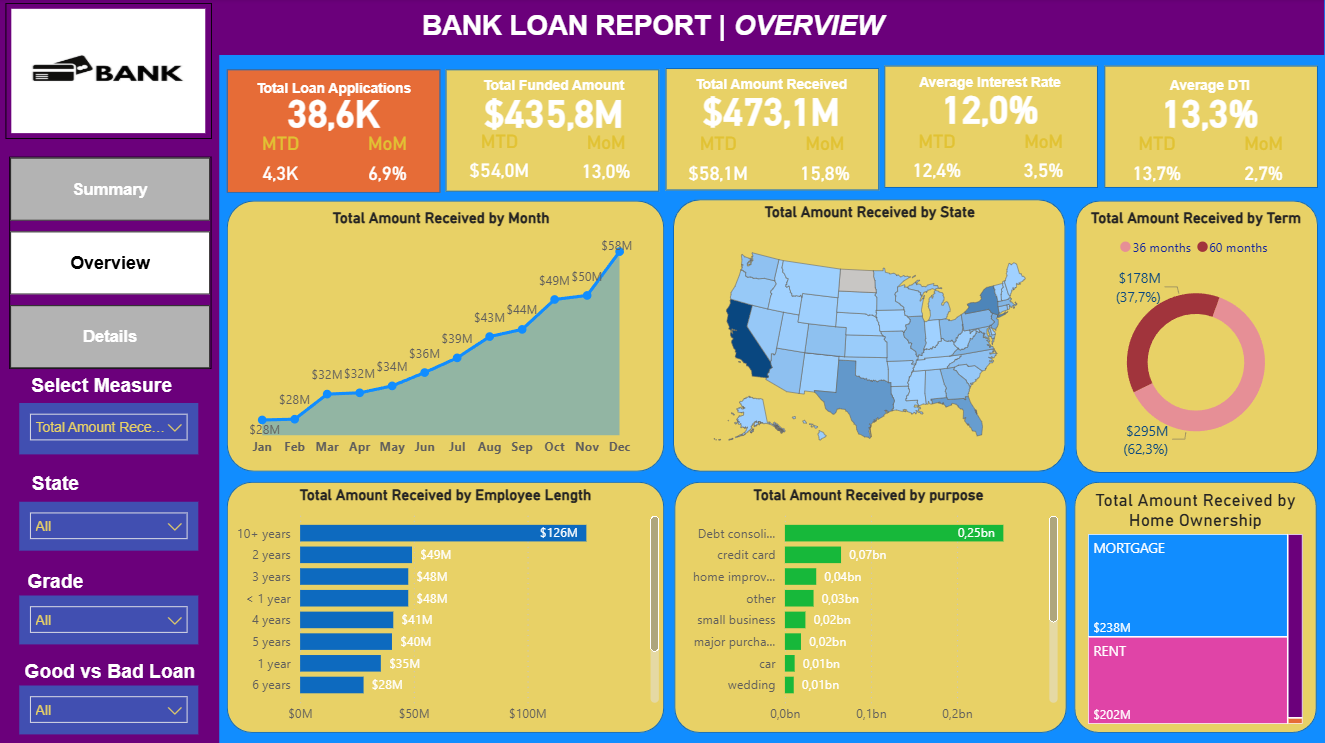

What the dashboard file says about the page in this screenshot:
{"tool":"powerbi","page":{"name":"Overview","canvas":[1280,720],"ordinal":1},"visuals":[{"type":"shape","box":[0,27.7,213.5,692.5],"z":0},{"type":"shape","box":[220.7,68.6,206.3,119.4],"z":0,"group":"g2"},{"type":"group","id":"g1","title":"Group 2","box":[431.7,69.3,206.3,118.3],"z":0,"group":"g6"},{"type":"shape","box":[1040,195.4,234,263],"z":1000},{"type":"shape","box":[220.8,195.4,422.3,261.8],"z":2000},{"type":"shape","box":[0,0,1280,55],"z":3000},{"type":"textbox","box":[404.2,7.2,470.5,48.3],"z":4000},{"type":"card","fields":{"Values":["bank_loan_data.Total Loan Applications"]},"box":[220.7,77.3,206.3,62],"z":4000,"group":"g2"},{"type":"card","title":"MoM","fields":{"Values":["bank_loan_data.MoM Funded"]},"box":[535.6,129.9,102.4,57.7],"z":4000,"group":"g6"},{"type":"shape","box":[1067.2,65.3,206.3,118.2],"z":5000},{"type":"textbox","box":[220.7,72.2,206.3,30.2],"z":5000,"group":"g2"},{"type":"group","id":"g2","title":"Group 1","box":[220.7,68.6,206.3,119.4],"z":6000},{"type":"card","title":"MTD","fields":{"Values":["bank_loan_data.MTD Loan Applications"]},"box":[220.7,130.1,103.8,57.9],"z":6000,"group":"g2"},{"type":"group","id":"g3","title":"Group 3","box":[642.7,67.2,207.2,120],"z":7000},{"type":"card","title":"MoM","fields":{"Values":["bank_loan_data.MoM"]},"box":[324.5,130.1,102.5,57.9],"z":7000,"group":"g2"},{"type":"group","id":"g4","title":"Group 4","box":[854.5,65.7,207.2,120],"z":8000},{"type":"shape","box":[431.7,69.3,206.3,118.2],"z":8000,"group":"g1"},{"type":"group","id":"g5","title":"Group 5","box":[1066.3,69.5,206.3,118.3],"z":9000},{"type":"card","fields":{"Values":["bank_loan_data.Total Funded AMount"]},"box":[432.3,78,206.3,62],"z":9000,"group":"g1"},{"type":"group","id":"g6","title":"Group 6","box":[431.7,69.3,206.3,118.3],"z":10000},{"type":"textbox","box":[432.3,70.8,206.3,30.3],"z":10000,"group":"g1"},{"type":"card","title":"MTD","fields":{"Values":["bank_loan_data.MTD Funded Amount"]},"box":[431.7,128.4,103.8,57.9],"z":11000,"group":"g1"},{"type":"slicer","fields":{"Values":["bank_loan_data.address_state"]},"box":[21,485.7,172.5,47.1],"z":11000},{"type":"textbox","box":[21,453.1,70,32.6],"z":12000},{"type":"shape","box":[643.6,67.2,206.3,118.2],"z":13000,"group":"g3"},{"type":"slicer","fields":{"Values":["bank_loan_data.grade"]},"box":[21,576.2,172.5,47.1],"z":13000},{"type":"card","fields":{"Values":["bank_loan_data.Total Amount Received"]},"box":[642.7,76.1,206.3,62],"z":14000,"group":"g3"},{"type":"textbox","box":[21,547.2,70,32.6],"z":14000},{"type":"textbox","box":[642.7,68.9,206.3,30.3],"z":15000,"group":"g3"},{"type":"slicer","fields":{"Values":["bank_loan_data.Good vs Bad Loans"]},"box":[21,663.1,172.5,47.1],"z":15000},{"type":"card","title":"MTD","fields":{"Values":["bank_loan_data.MTD Received"]},"box":[642.7,129.5,103.9,57.7],"z":16000,"group":"g3"},{"type":"textbox","box":[21,634.1,182.2,32.6],"z":16000},{"type":"card","title":"MoM","fields":{"Values":["bank_loan_data.MoM Received"]},"box":[746.6,129.5,102.4,57.7],"z":17000,"group":"g3"},{"type":"areaChart","fields":{"Y":["bank_loan_data.Total Loan Applications"],"Category":["Date Table.Month"]},"box":[237.7,203.9,380,247.3],"z":17000},{"type":"shape","box":[855.4,65.7,206.3,118.2],"z":18000,"group":"g4"},{"type":"slicer","fields":{"Values":["Select Measure.Select Measure"]},"box":[21,390.4,172.5,49.5],"z":18000},{"type":"card","fields":{"Values":["bank_loan_data.AVG IntRate"]},"box":[854.5,74.6,206.3,62],"z":19000,"group":"g4"},{"type":"textbox","box":[21,357.8,159.3,32.6],"z":19000},{"type":"textbox","box":[854.5,67.4,206.3,30.3],"z":20000,"group":"g4"},{"type":"shape","box":[651.5,194.2,378.8,263],"z":20000},{"type":"card","title":"MTD","fields":{"Values":["bank_loan_data.MTD AVG"]},"box":[854.5,128,103.9,57.7],"z":21000,"group":"g4"},{"type":"shapeMap","fields":{"Value":["bank_loan_data.Total Loan Applications"],"Category":["bank_loan_data.address_state"]},"box":[669.6,197.9,343.8,260.6],"z":21000},{"type":"card","title":"MoM","fields":{"Values":["bank_loan_data.MoM AVG"]},"box":[958.4,128,102.4,57.7],"z":22000,"group":"g4"},{"type":"donutChart","fields":{"Y":["bank_loan_data.Total Loan Applications"],"Category":["bank_loan_data.term"]},"box":[1040,203.9,232.8,250.9],"z":22000},{"type":"shape","box":[220.8,466.9,422.3,242.5],"z":23000},{"type":"card","fields":{"Values":["bank_loan_data.AVG DTI"]},"box":[1066.3,76.7,206.3,62],"z":24000,"group":"g5"},{"type":"barChart","fields":{"Y":["bank_loan_data.Total Loan Applications"],"Category":["bank_loan_data.emp_length"]},"box":[220.8,470.5,422.3,238.9],"z":24000},{"type":"textbox","box":[1066.3,69.5,206.3,30.3],"z":25000,"group":"g5"},{"type":"shape","box":[652.7,466.9,378.8,242.5],"z":25000},{"type":"card","title":"MTD","fields":{"Values":["bank_loan_data.MTD ADTI"]},"box":[1066.3,130.1,103.9,57.7],"z":26000,"group":"g5"},{"type":"barChart","fields":{"Y":["bank_loan_data.Total Loan Applications"],"Category":["bank_loan_data.purpose"]},"box":[652.7,470.5,375.2,238.9],"z":26000},{"type":"card","title":"MoM","fields":{"Values":["bank_loan_data.MoM ADTI"]},"box":[1170.2,130.1,102.4,57.7],"z":27000,"group":"g5"},{"type":"shape","box":[1038.7,466.9,234,242.5],"z":27000},{"type":"treemap","fields":{"Values":["bank_loan_data.Total Loan Applications"],"Group":["bank_loan_data.home_ownership"]},"box":[1047.2,474.1,217.2,231.6],"z":28000},{"type":"pageNavigator","box":[10.9,153.2,195.4,205.1],"z":29000},{"type":"image","box":[7.2,4.8,199.1,131.5],"z":30000}]}

Visuals, with their boxes in screenshot pixels (x1, y1, x2, y2), scaled from the page's 1280x720 canvas onto the 1325x743 screenshot:
shape: (0,29,221,742)
shape: (228,71,442,194)
"Group 2" group: (447,72,660,194)
shape: (1077,202,1319,473)
shape: (229,202,666,472)
shape: (0,0,1324,57)
textbox: (418,7,905,57)
card - bank_loan_data.Total Loan Applications: (228,80,442,144)
"MoM" card: (554,134,660,194)
shape: (1105,67,1318,189)
textbox: (228,75,442,106)
"Group 1" group: (228,71,442,194)
"MTD" card: (228,134,336,194)
"Group 3" group: (665,69,880,193)
"MoM" card: (336,134,442,194)
"Group 4" group: (885,68,1099,192)
shape: (447,72,660,193)
"Group 5" group: (1104,72,1317,194)
card - bank_loan_data.Total Funded AMount: (447,80,661,144)
"Group 6" group: (447,72,660,194)
textbox: (447,73,661,104)
"MTD" card: (447,133,554,192)
slicer - bank_loan_data.address_state: (22,501,200,550)
textbox: (22,468,94,501)
shape: (666,69,880,191)
slicer - bank_loan_data.grade: (22,595,200,643)
card - bank_loan_data.Total Amount Received: (665,79,879,143)
textbox: (22,565,94,598)
textbox: (665,71,879,102)
slicer - bank_loan_data.Good vs Bad Loans: (22,684,200,733)
"MTD" card: (665,134,773,193)
textbox: (22,654,210,688)
"MoM" card: (773,134,879,193)
areaChart - bank_loan_data.Total Loan Applications x Date Table.Month: (246,210,639,466)
shape: (885,68,1099,190)
slicer - Select Measure.Select Measure: (22,403,200,454)
card - bank_loan_data.AVG IntRate: (885,77,1098,141)
textbox: (22,369,187,403)
textbox: (885,70,1098,101)
shape: (674,200,1067,472)
"MTD" card: (885,132,992,192)
shapeMap - bank_loan_data.Total Loan Applications x bank_loan_data.address_state: (693,204,1049,473)
"MoM" card: (992,132,1098,192)
donutChart - bank_loan_data.Total Loan Applications x bank_loan_data.term: (1077,210,1318,469)
shape: (229,482,666,732)
card - bank_loan_data.AVG DTI: (1104,79,1317,143)
barChart - bank_loan_data.Total Loan Applications x bank_loan_data.emp_length: (229,486,666,732)
textbox: (1104,72,1317,103)
shape: (676,482,1068,732)
"MTD" card: (1104,134,1211,194)
barChart - bank_loan_data.Total Loan Applications x bank_loan_data.purpose: (676,486,1064,732)
"MoM" card: (1211,134,1317,194)
shape: (1075,482,1317,732)
treemap - bank_loan_data.Total Loan Applications x bank_loan_data.home_ownership: (1084,489,1309,728)
pageNavigator: (11,158,214,370)
image: (7,5,214,141)
